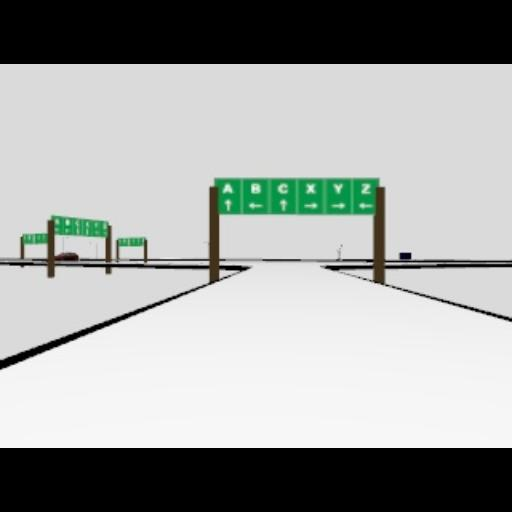A: (222, 182, 232, 194)
B: (53, 216, 63, 236), (91, 219, 101, 235), (250, 182, 262, 194), (83, 219, 89, 235), (74, 219, 80, 233), (64, 218, 70, 226)
C: (278, 184, 288, 194)
Left: (359, 203, 373, 209), (249, 203, 263, 209)
Right: (302, 203, 318, 209), (330, 203, 346, 209)
Straight: (279, 198, 287, 212), (224, 199, 232, 211)
X: (306, 184, 316, 194)
Y: (334, 182, 344, 194)
Z: (360, 182, 372, 194)
